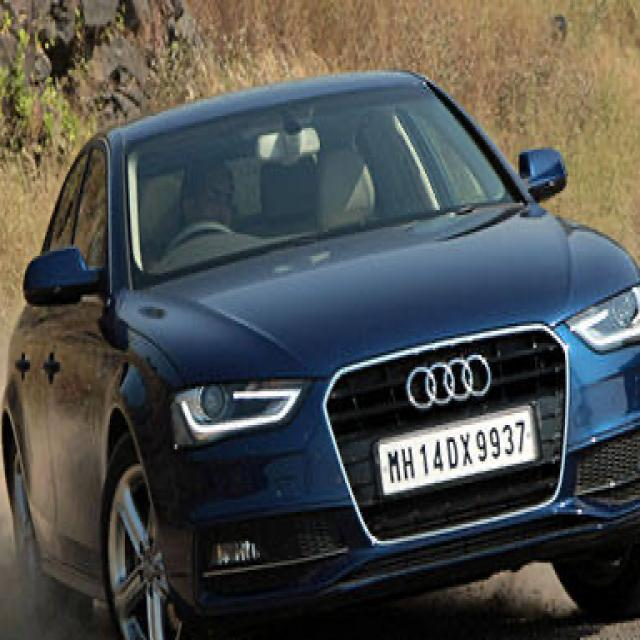Plate: (376, 404, 536, 494)
